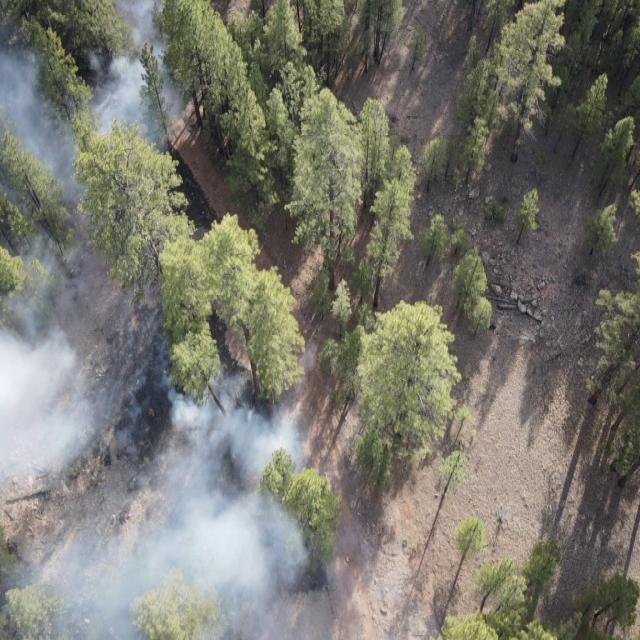smoke: (0, 347, 339, 640), (0, 221, 169, 509), (0, 0, 188, 224)
